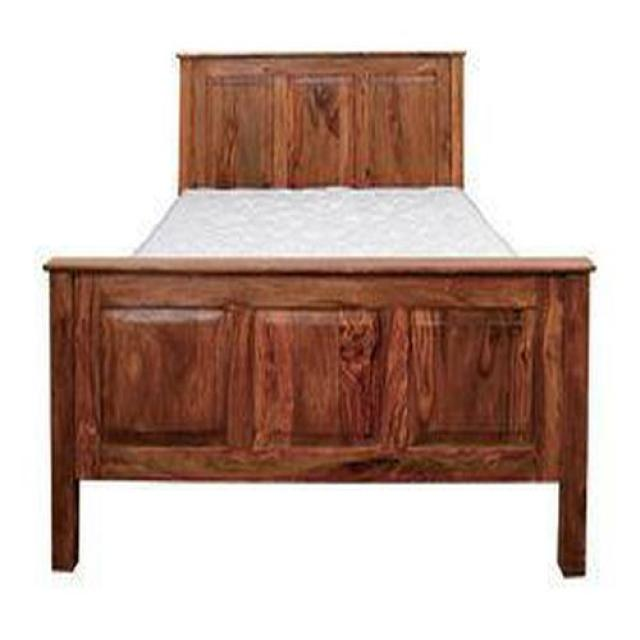bed: (45, 51, 598, 581)
